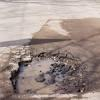alligator-crack: (0, 43, 32, 58)
pothole: (9, 56, 90, 96)
